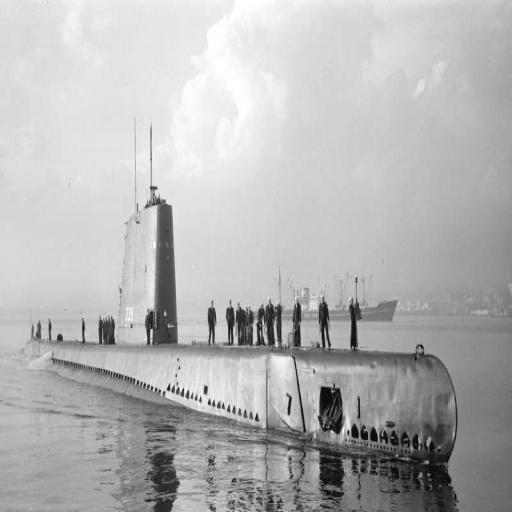submarine: (22, 114, 458, 464)
